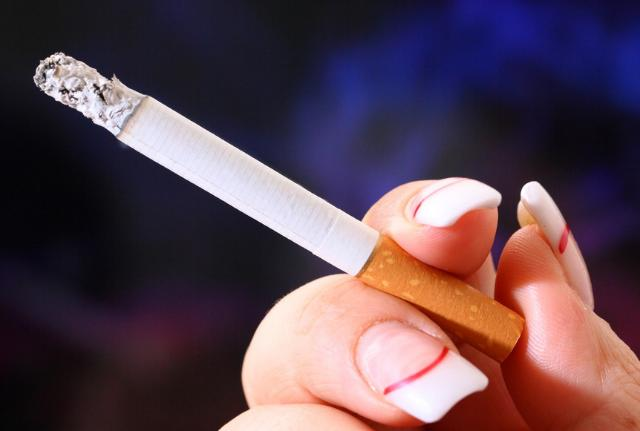Cigarette: (32, 49, 528, 366)
